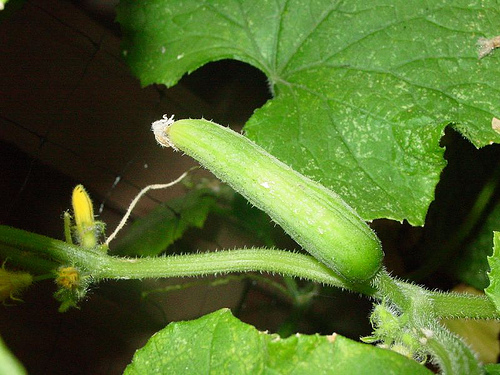cucumber: (169, 121, 388, 281)
